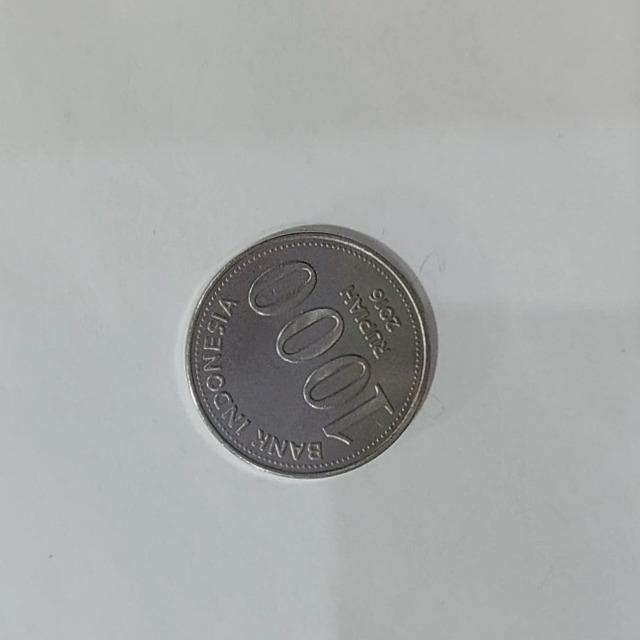Rp100: (183, 222, 438, 480)
